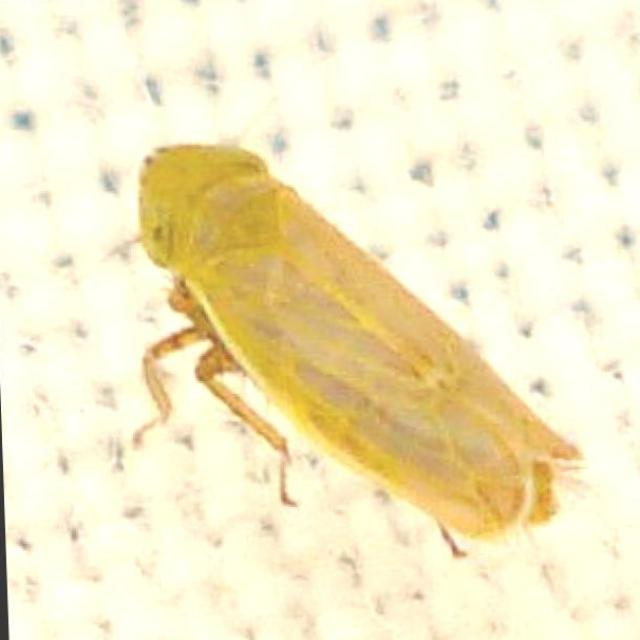green leaf hopper: (139, 145, 577, 556)
